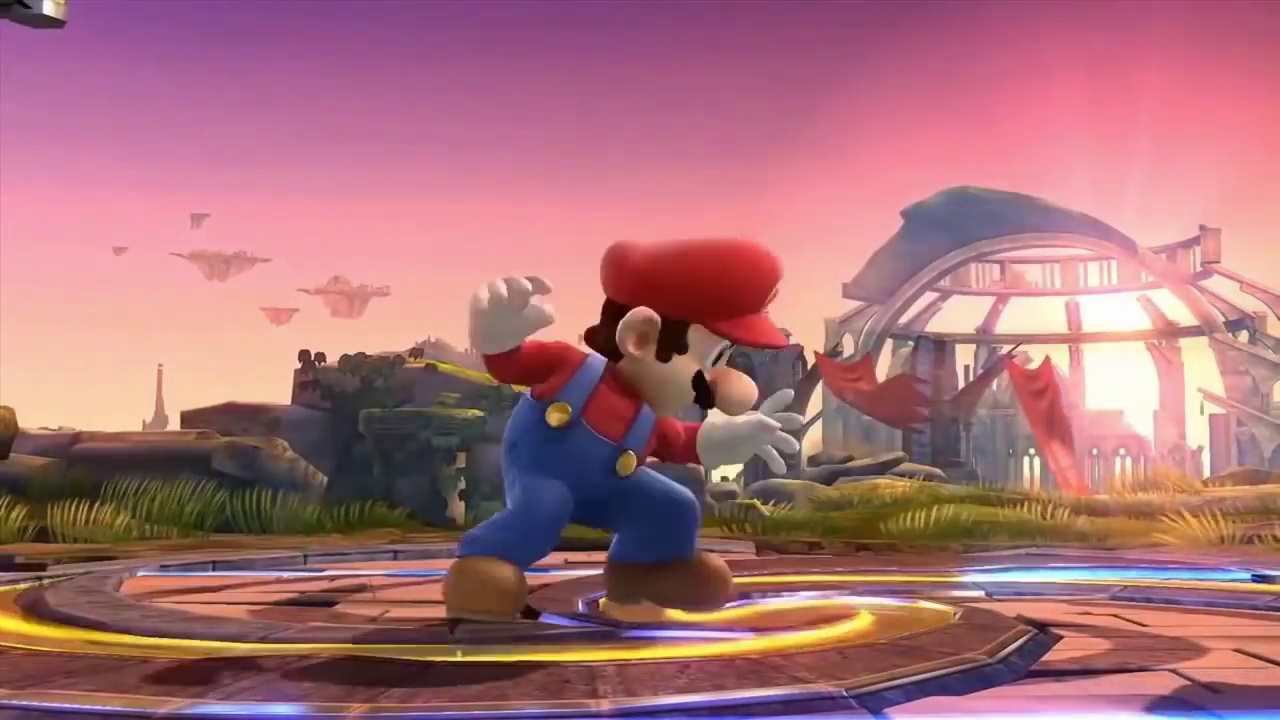Mario: (446, 236, 804, 612)
